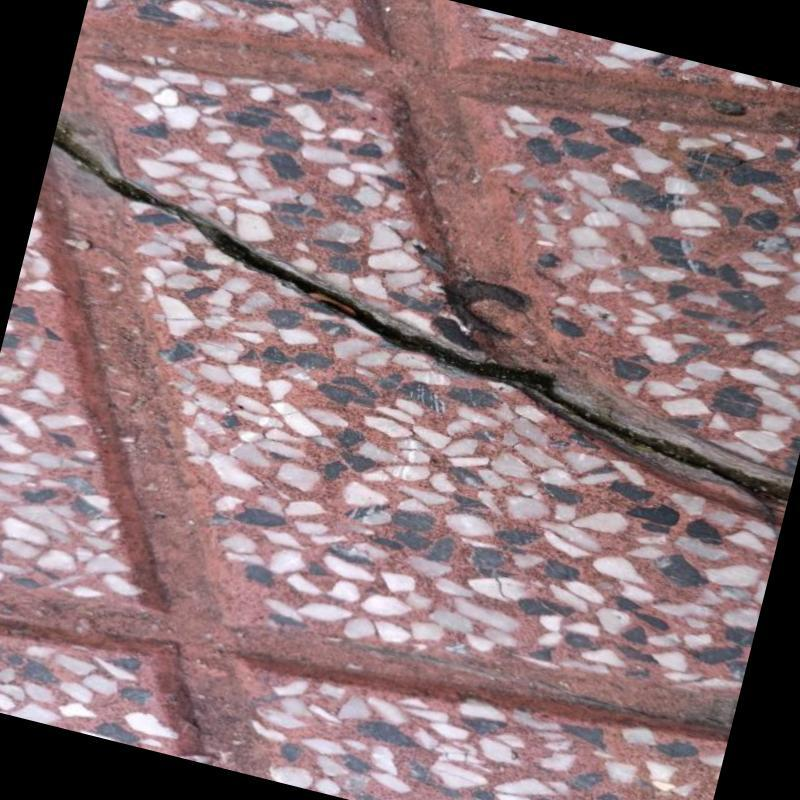crack: (53, 124, 784, 497)
